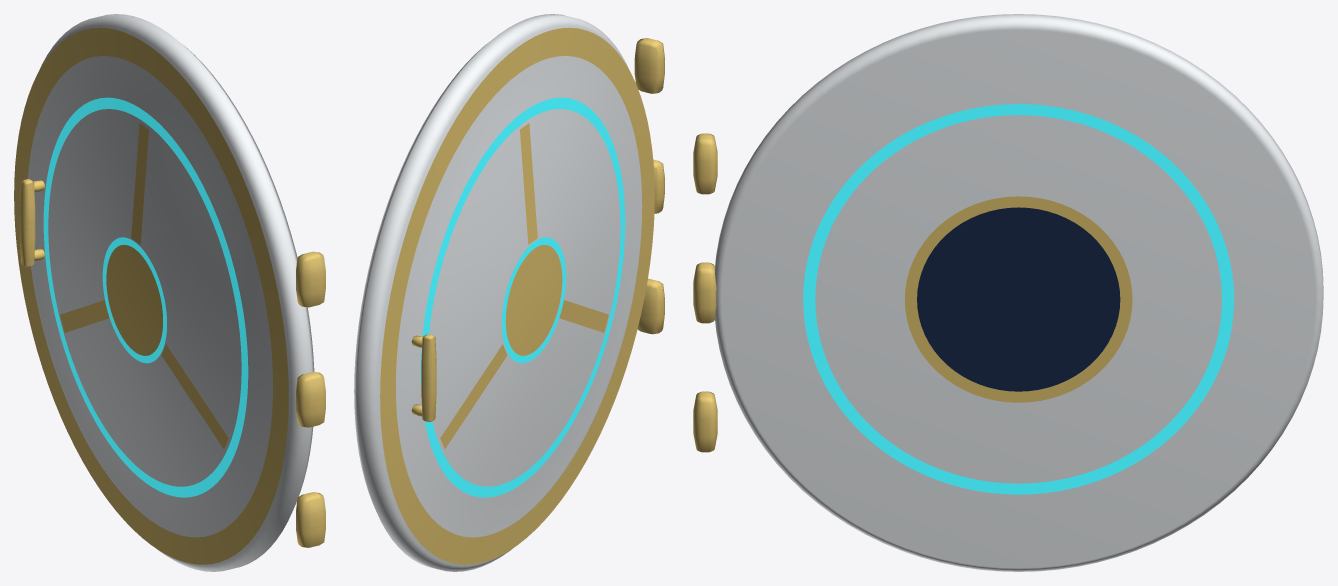
Rendered from starpod_door.glb.
The picture shows the model from 3 angles, left to right: view 1: azimuth 30°, elevation 25°; view 2: azimuth 150°, elevation 25°; view 3: azimuth 270°, elevation 25°; orthographic projection. The views are drawn at different scales.
Size of the model in its own units: 0.3081 by 3 by 3.1.
4 materials, 4 textured.
